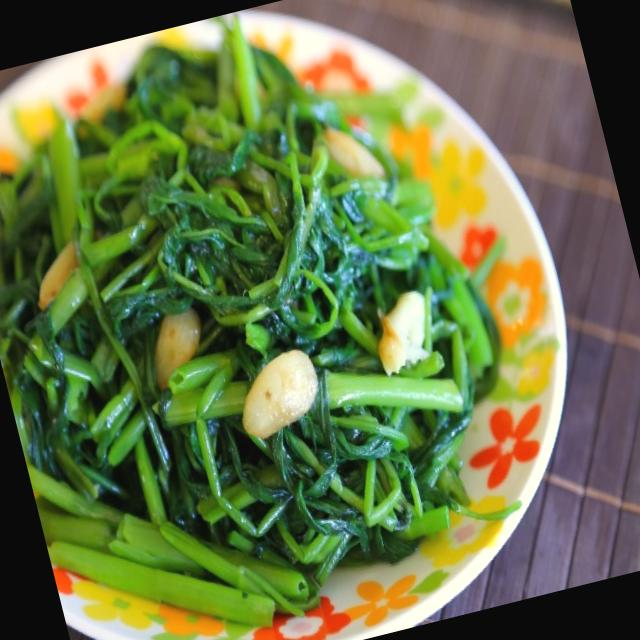rau muong: (0, 14, 499, 623)
